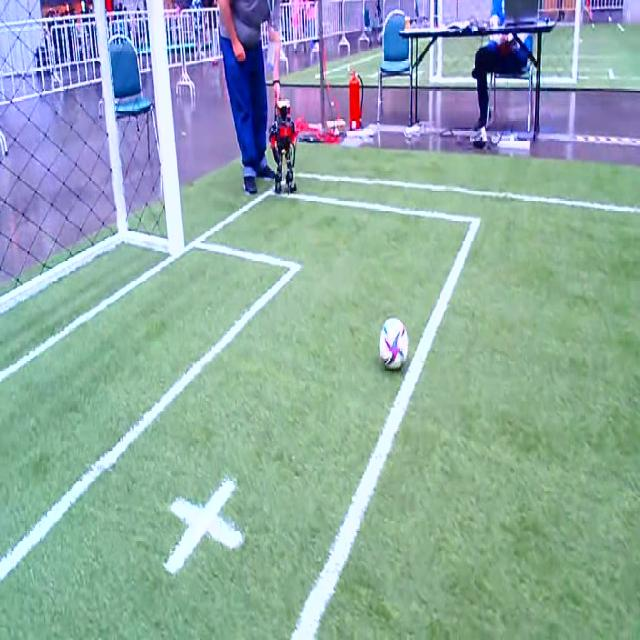ball: (380, 318, 407, 369)
